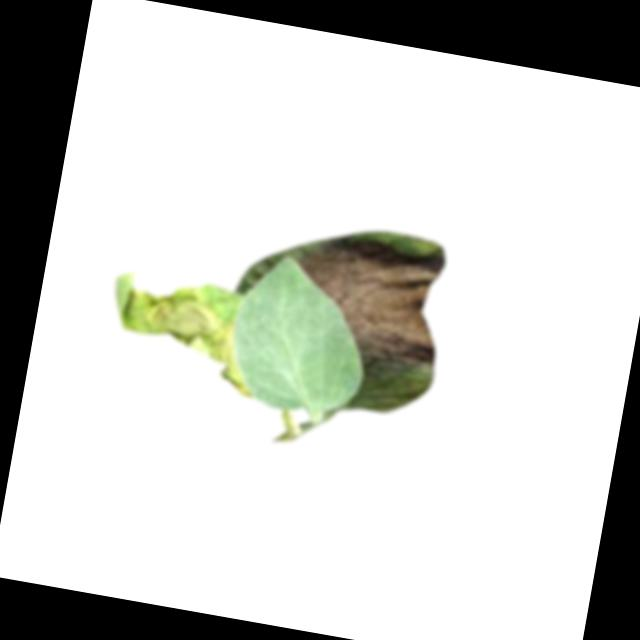Late_blight: (284, 228, 458, 376), (99, 270, 270, 400)
